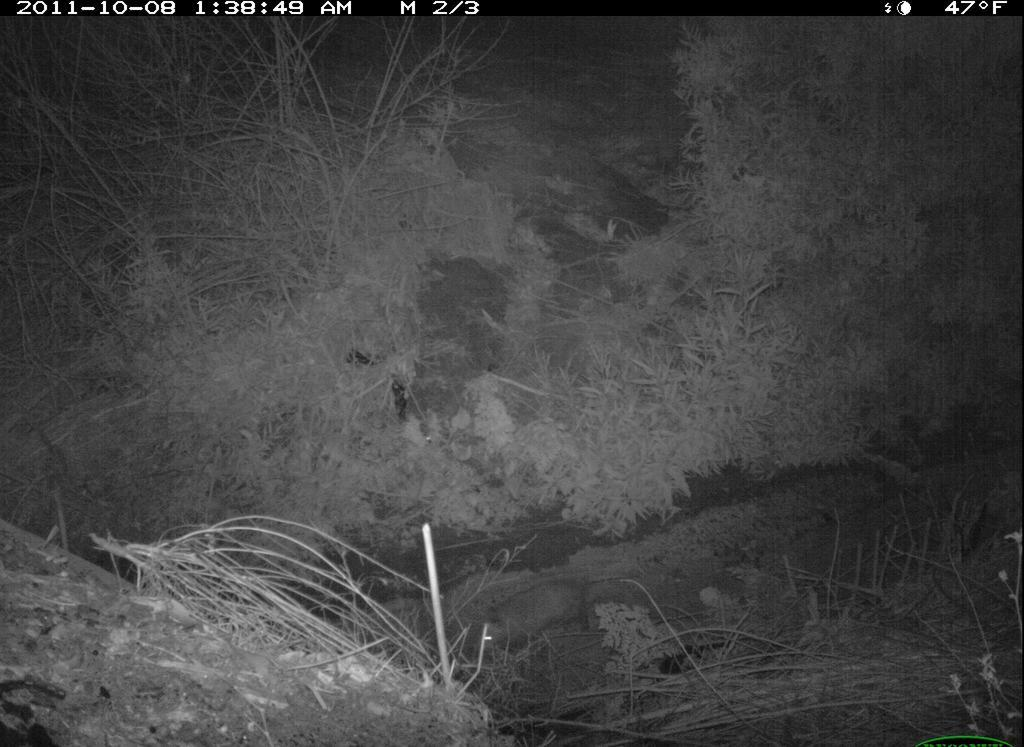opossum: (469, 565, 652, 664)
